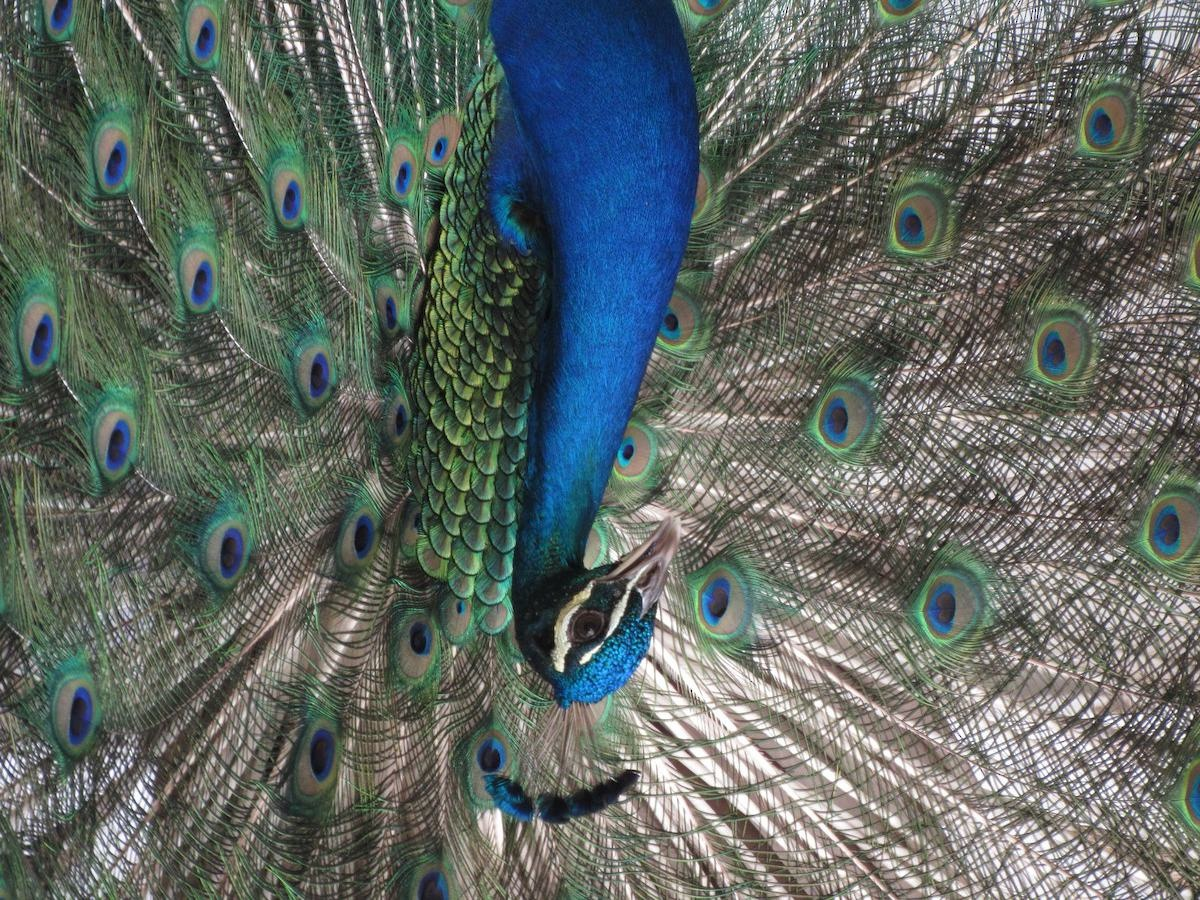peacock: (5, 2, 1191, 900)
